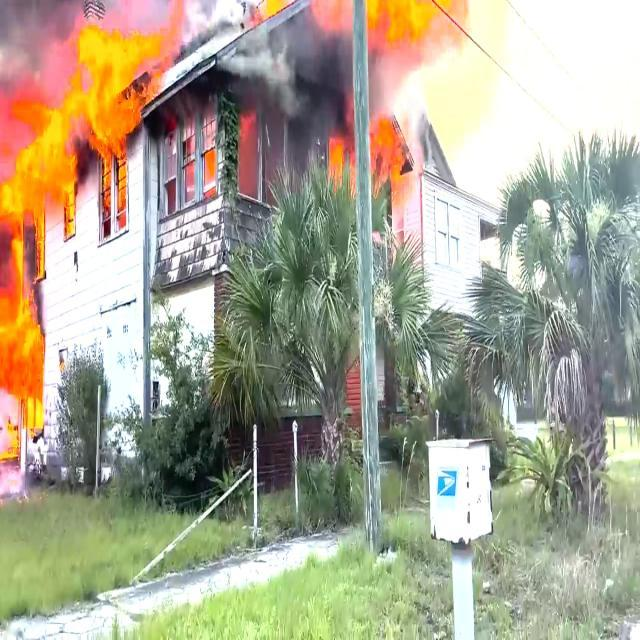Fire: (0, 165, 44, 452), (78, 31, 136, 172), (370, 125, 410, 193), (38, 106, 64, 205), (384, 1, 442, 38), (336, 142, 352, 184)
Smoke: (242, 18, 350, 116), (0, 0, 68, 82)
